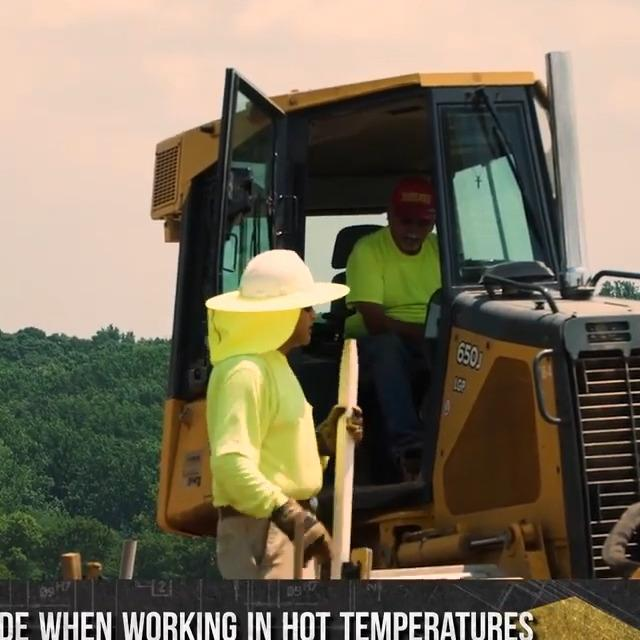Excavator: (147, 48, 640, 575)
Gloves: (273, 497, 333, 568), (315, 402, 363, 456)
NO-Hardhat: (233, 247, 316, 312), (383, 176, 434, 213)
NO-Mask: (395, 226, 425, 253), (295, 319, 312, 345)
NO-Safety Vest: (206, 350, 326, 506), (342, 227, 440, 333)
Person: (205, 246, 364, 578), (343, 176, 443, 473)
